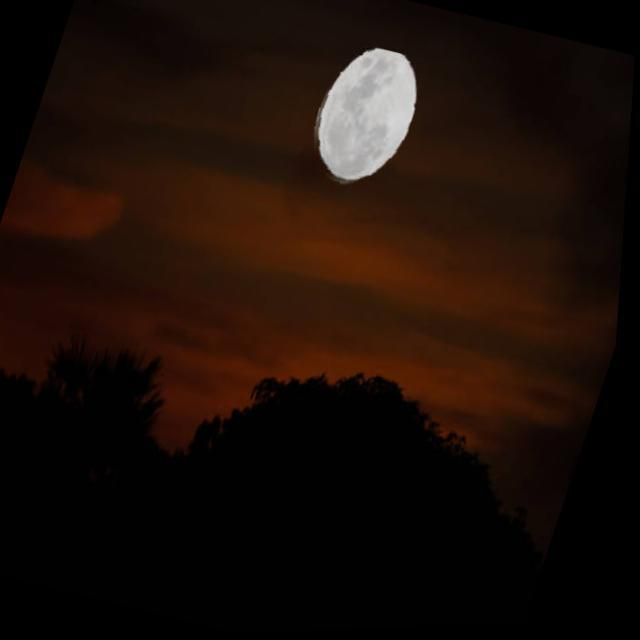moon: (296, 39, 432, 202)
